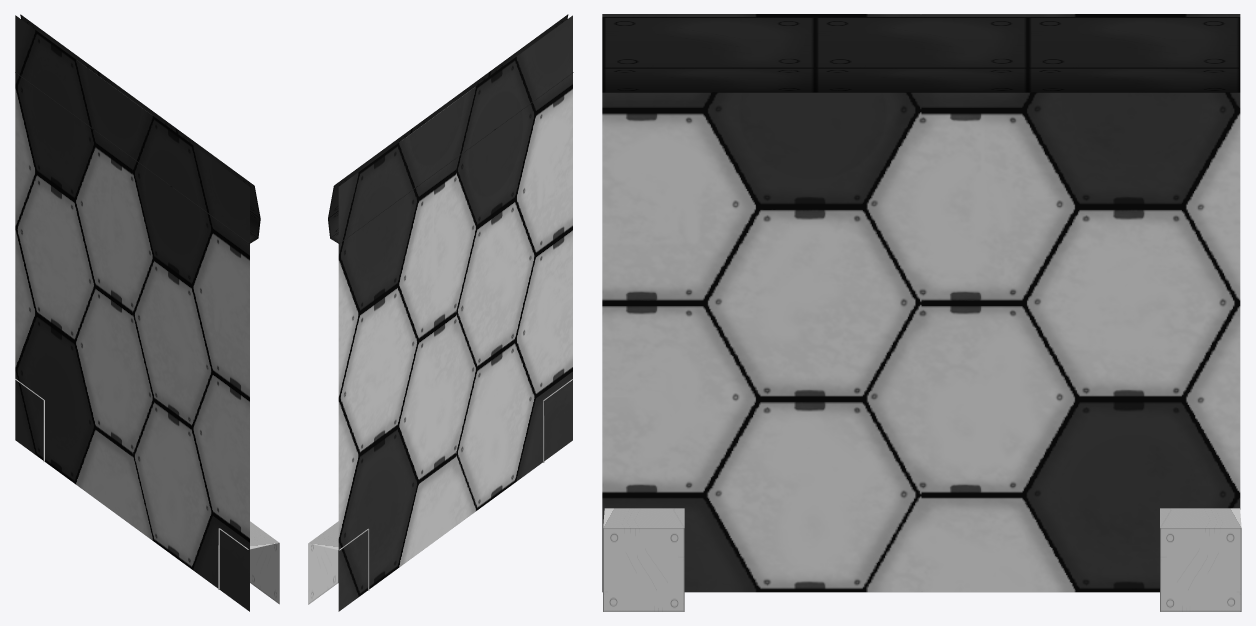
File: Wall_TopCorners.fbx
3 renders of one model, left to right at view 1: azimuth 30°, elevation 25°; view 2: azimuth 150°, elevation 25°; view 3: azimuth 270°, elevation 25°, orthographic. The views are drawn at different scales.
Parts seen in each view (by area): view 1: pPlane142; view 2: pPlane142; view 3: pPlane142.
Part boxes in pixels (x1=…): pPlane142: x1=15, y1=14, x2=279, y2=611; pPlane142: x1=308, y1=14, x2=573, y2=611; pPlane142: x1=602, y1=14, x2=1241, y2=611.
Size of the model in its own units: 0.1534 by 2 by 2.
